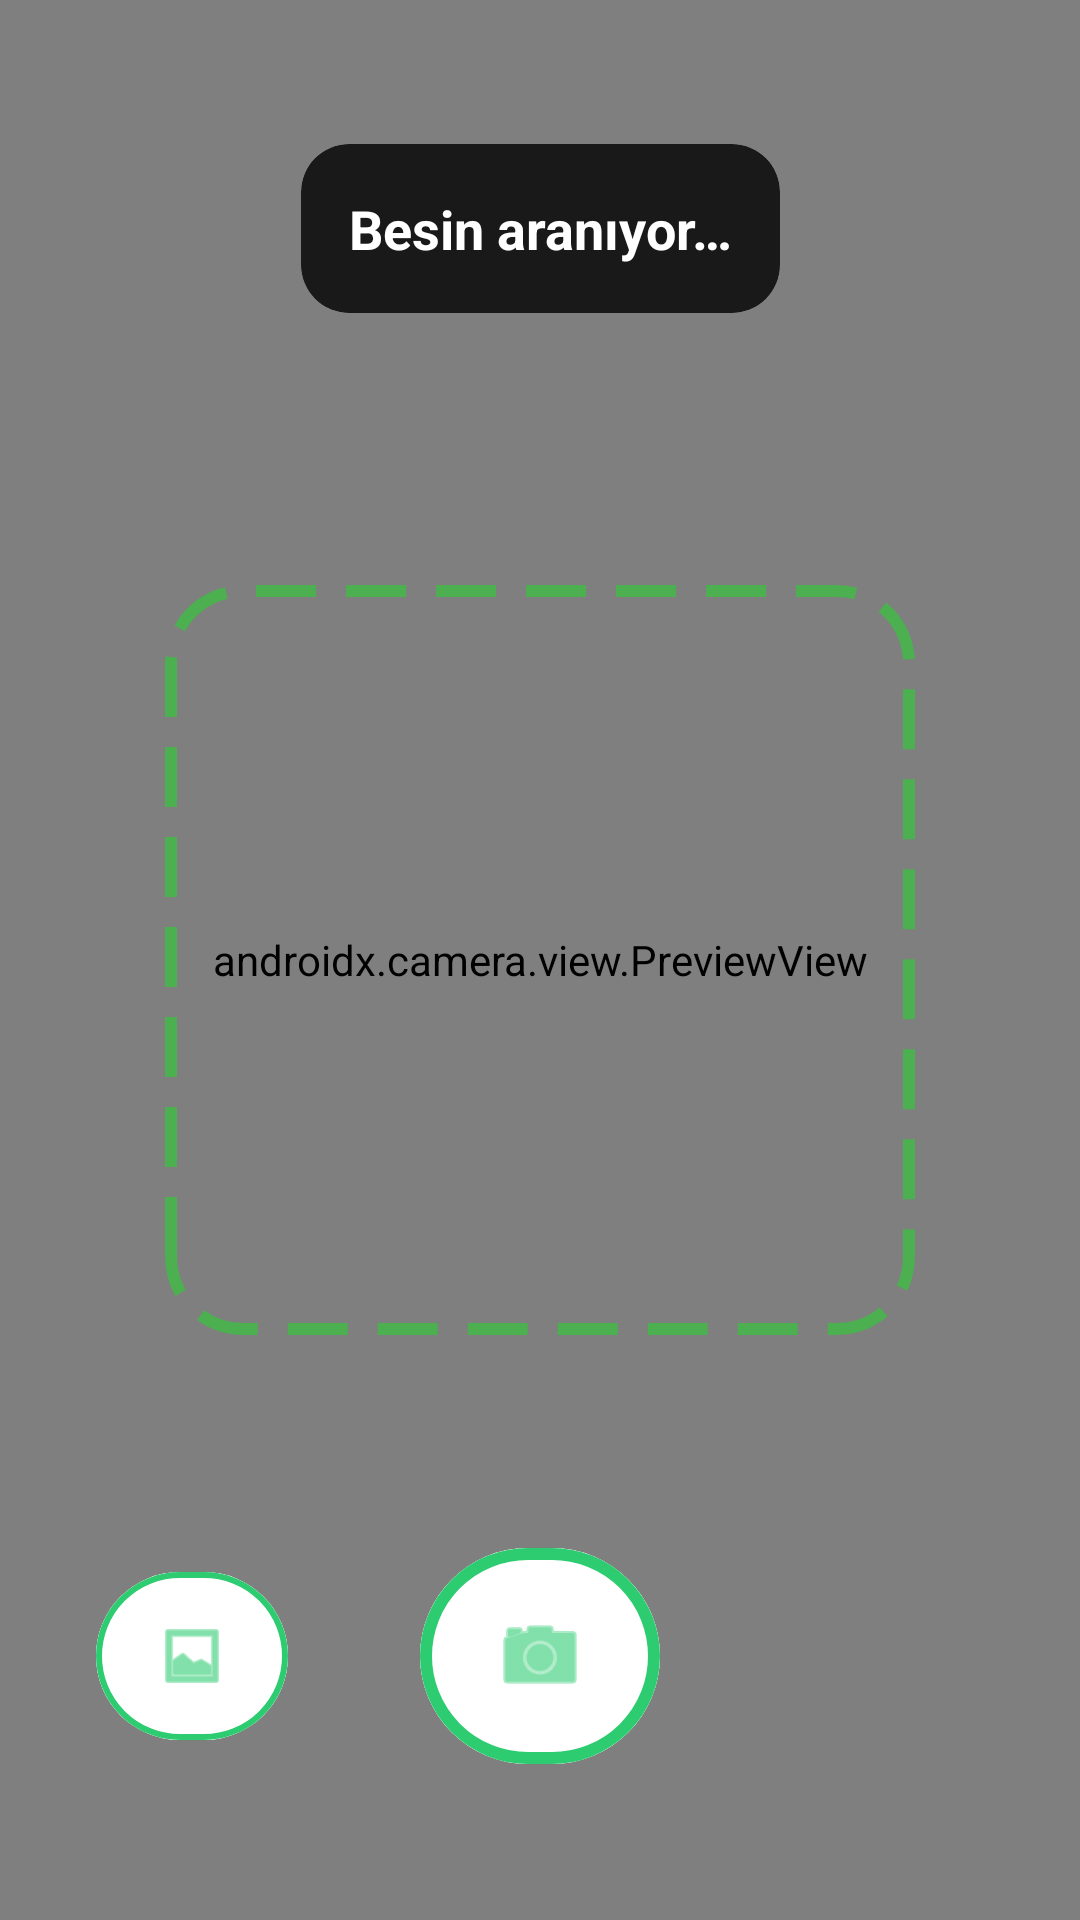

Screen size 1080 x 1920. Icon name, then its center in pixels as (x,y):
gallery: (192,1656)
